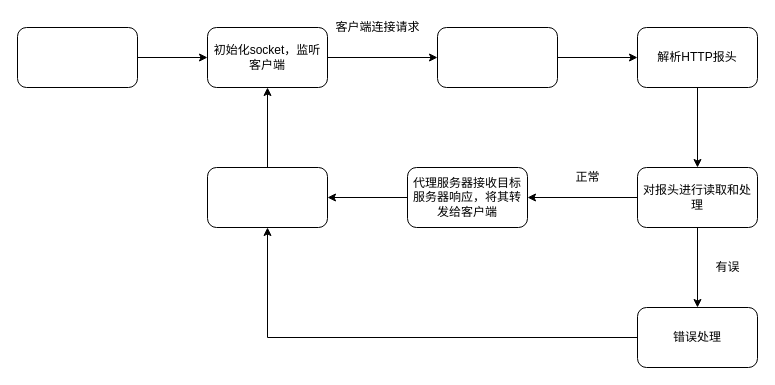
This 775x385 diagram has some shape labels left out. The shapes that lost their labels are listed below. From the top down, each one's centre as x and y in pixels, then its label:
pixel 77 57: 开始
pixel 497 57: 创建新线程处理请求
pixel 267 197: 释放资源，关闭连接
